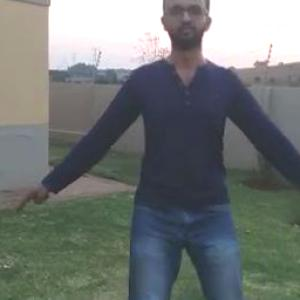land: (32, 0, 299, 294)
